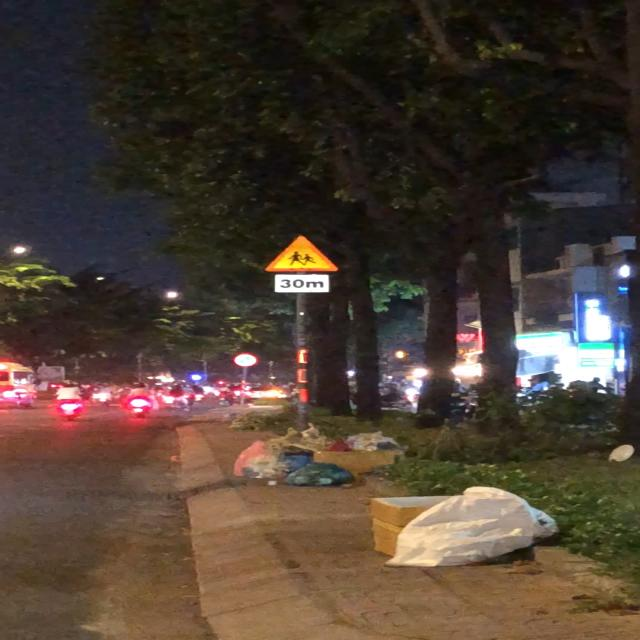Bien bao tre em: (260, 230, 343, 272)
